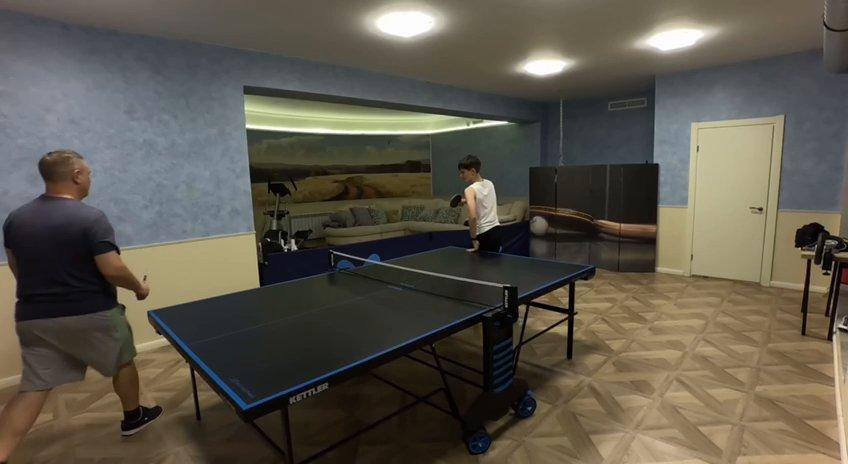Net: (327, 251, 515, 308)
Player1: (452, 155, 501, 251)
Player2: (0, 150, 161, 448)
Table: (149, 247, 594, 409)
